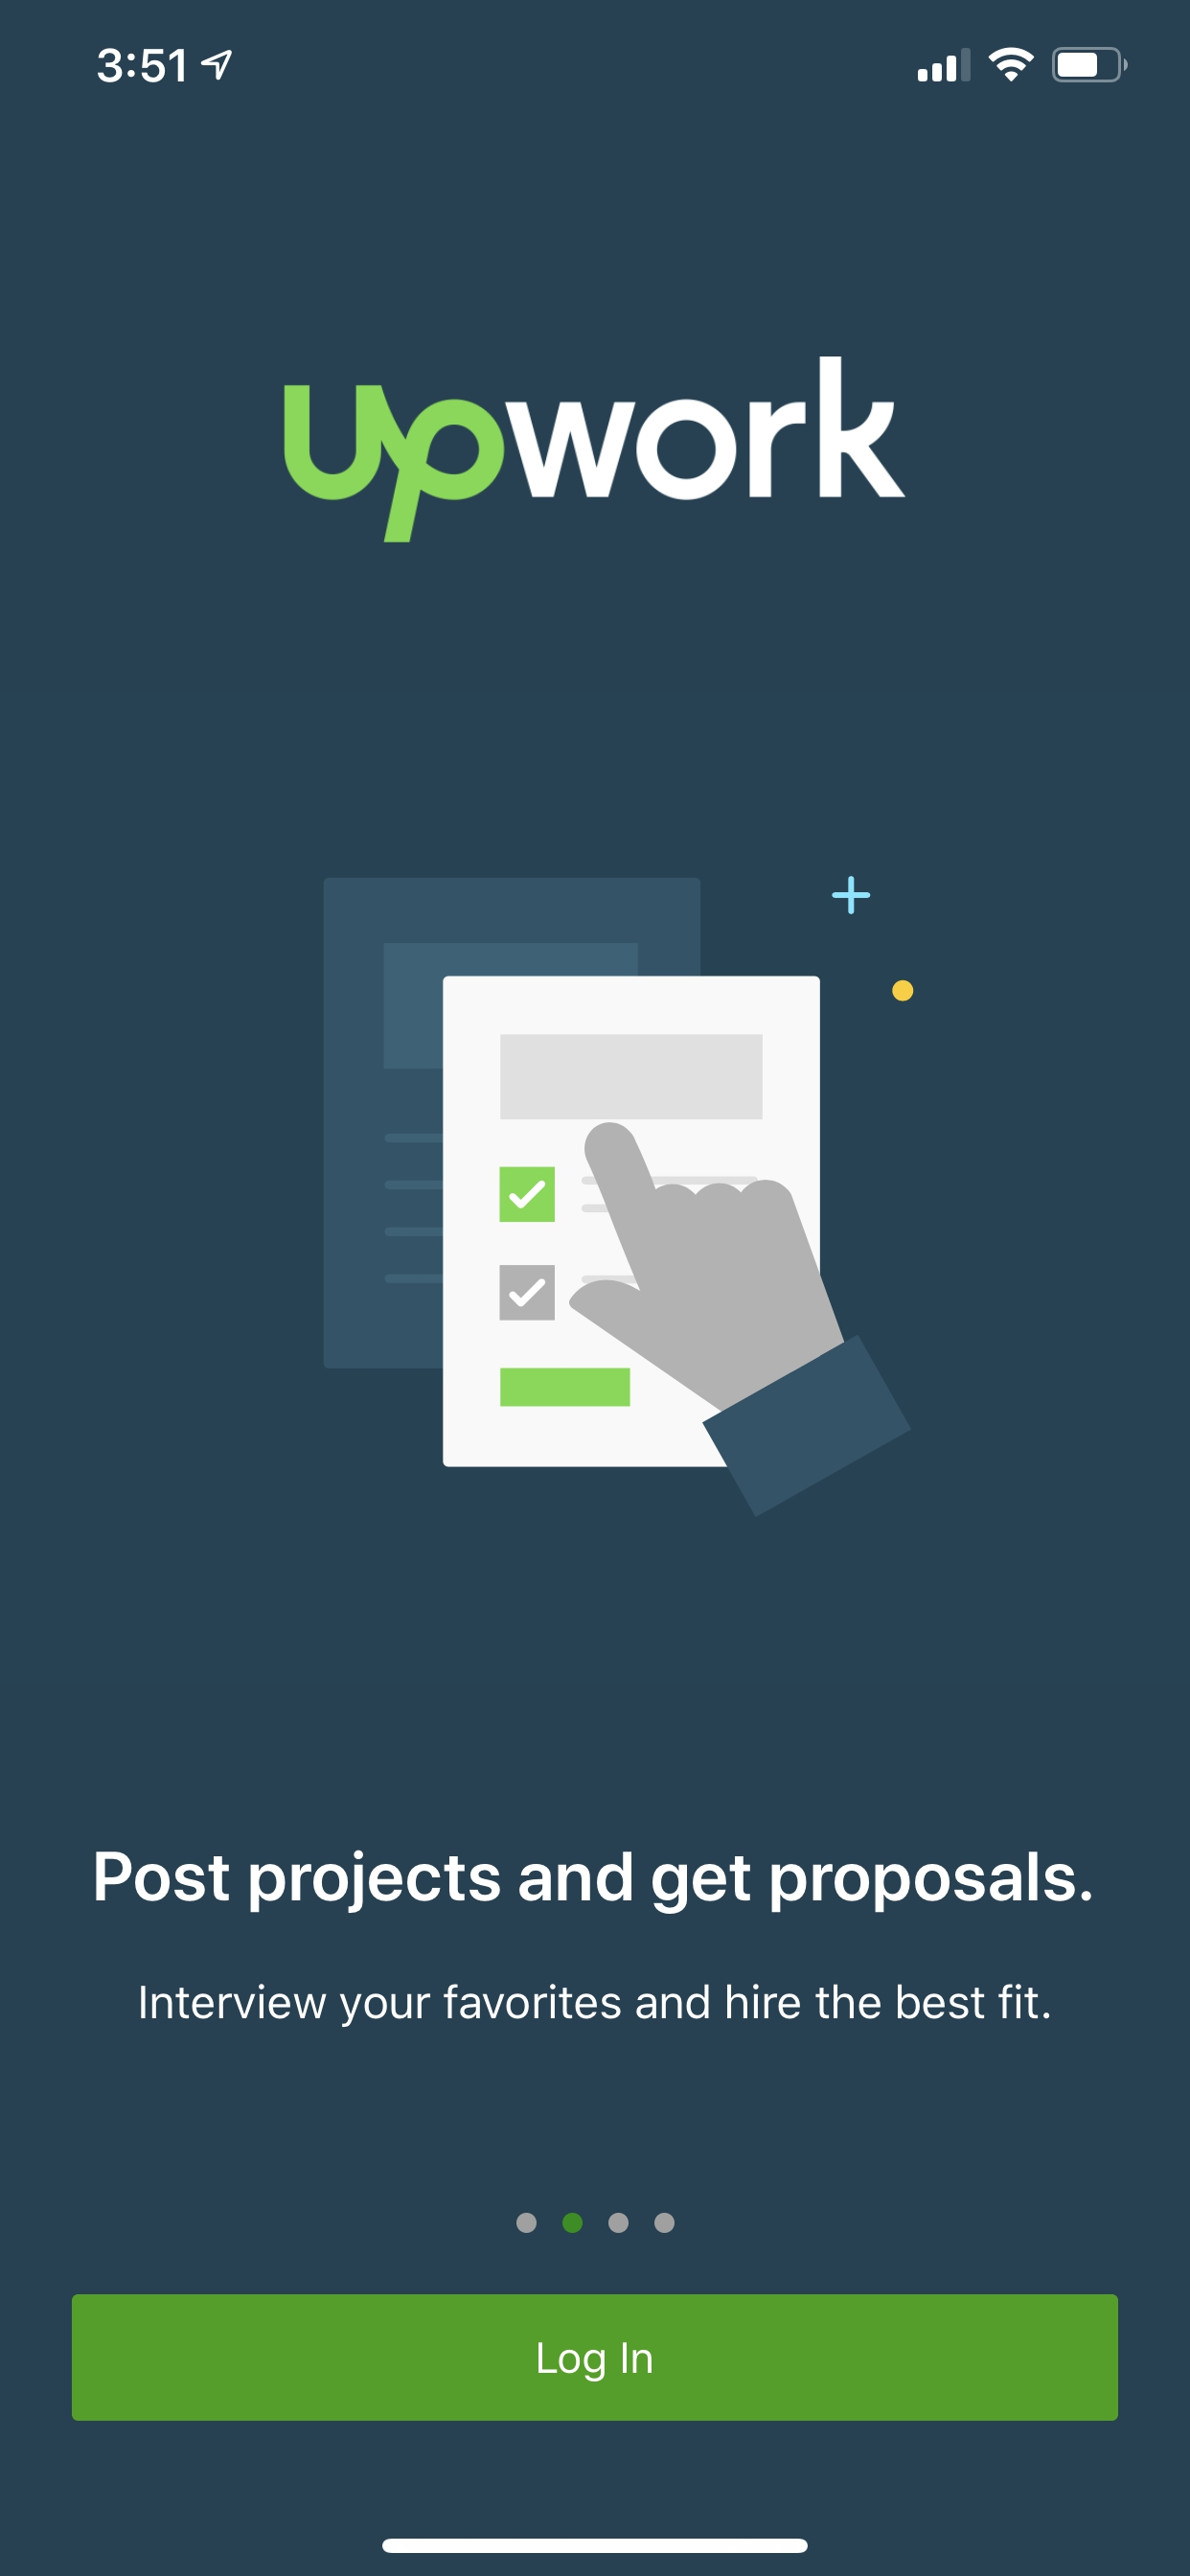Image: (322, 876, 914, 1518), (284, 356, 906, 544)
PageIndicator: (516, 2211, 674, 2233)
Text: (95, 1850, 1091, 1914), (141, 1983, 1050, 2027)
TextButton: (71, 2293, 1119, 2422)
UpperTaskBar: (97, 48, 1128, 84)
